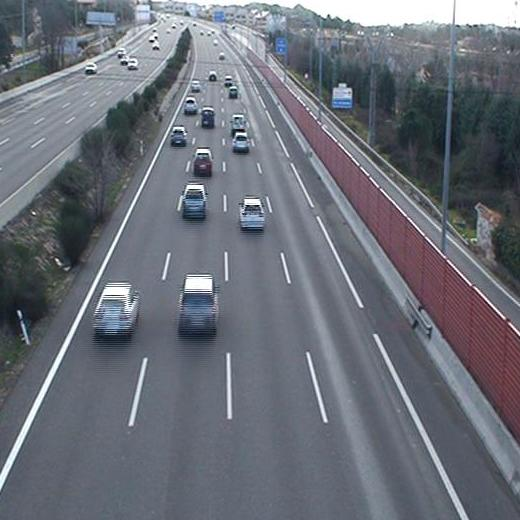car: (91, 281, 138, 337), (179, 274, 218, 333), (237, 198, 266, 232), (181, 185, 207, 216), (192, 149, 213, 175), (230, 133, 250, 153), (169, 127, 187, 146), (182, 98, 197, 114), (228, 85, 239, 98), (208, 69, 218, 82), (192, 79, 201, 92)
van: (200, 108, 217, 129), (229, 113, 247, 132)
